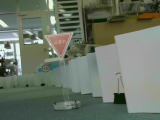stop: (43, 31, 75, 61)
